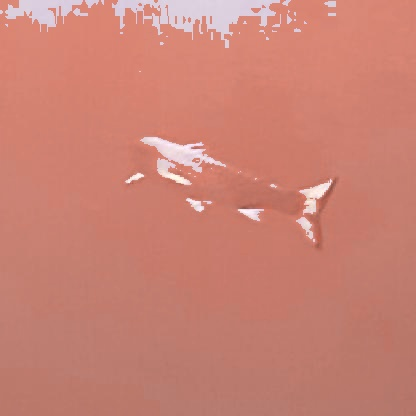salmon: (112, 128, 340, 250)
